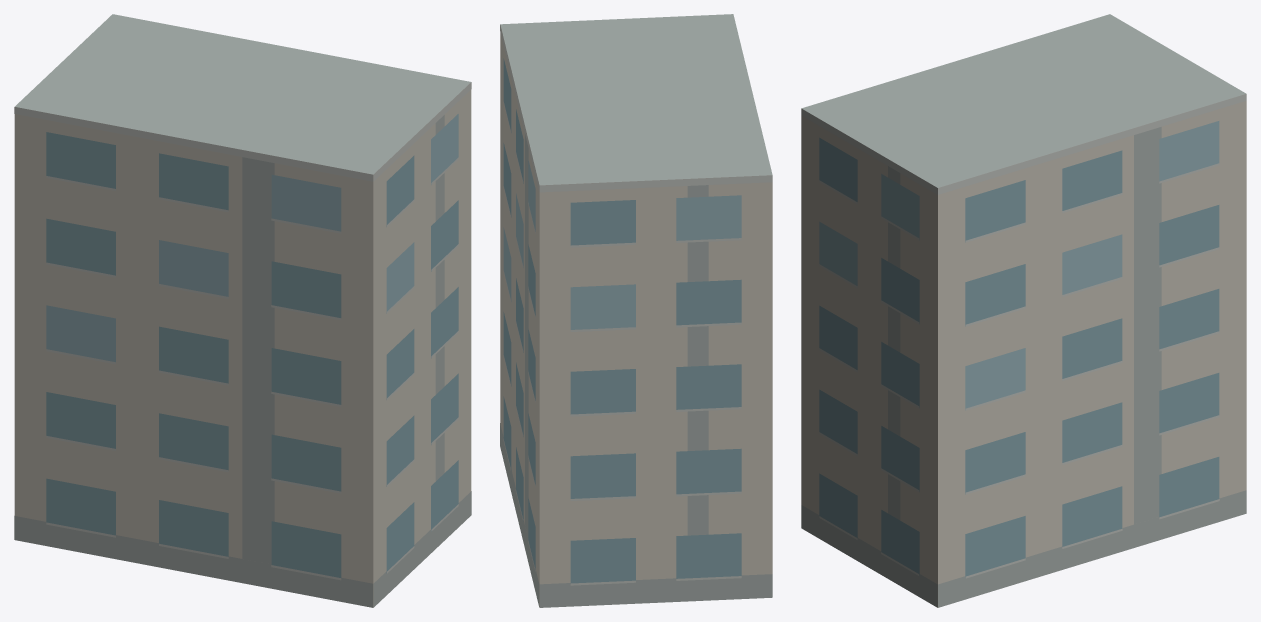
The model's file is residential-4bff939e-c45a-4343-83e7-8ff1d496090f.glb.
3 renders of one model, left to right at view 1: azimuth 30°, elevation 25°; view 2: azimuth 150°, elevation 25°; view 3: azimuth 270°, elevation 25°, orthographic. The views are drawn at different scales.
Visible parts, largest first — view 1: residential-4bff939e-c45a-4343-83e7-8ff1d496090f.tmp; view 2: residential-4bff939e-c45a-4343-83e7-8ff1d496090f.tmp; view 3: residential-4bff939e-c45a-4343-83e7-8ff1d496090f.tmp.
Part boxes in pixels (box(x1,y1,x2,y2)): residential-4bff939e-c45a-4343-83e7-8ff1d496090f.tmp: box(14, 14, 471, 607); residential-4bff939e-c45a-4343-83e7-8ff1d496090f.tmp: box(500, 14, 772, 607); residential-4bff939e-c45a-4343-83e7-8ff1d496090f.tmp: box(801, 14, 1246, 607).
Size of the model in its own units: 13.03 by 14.65 by 14.09.
